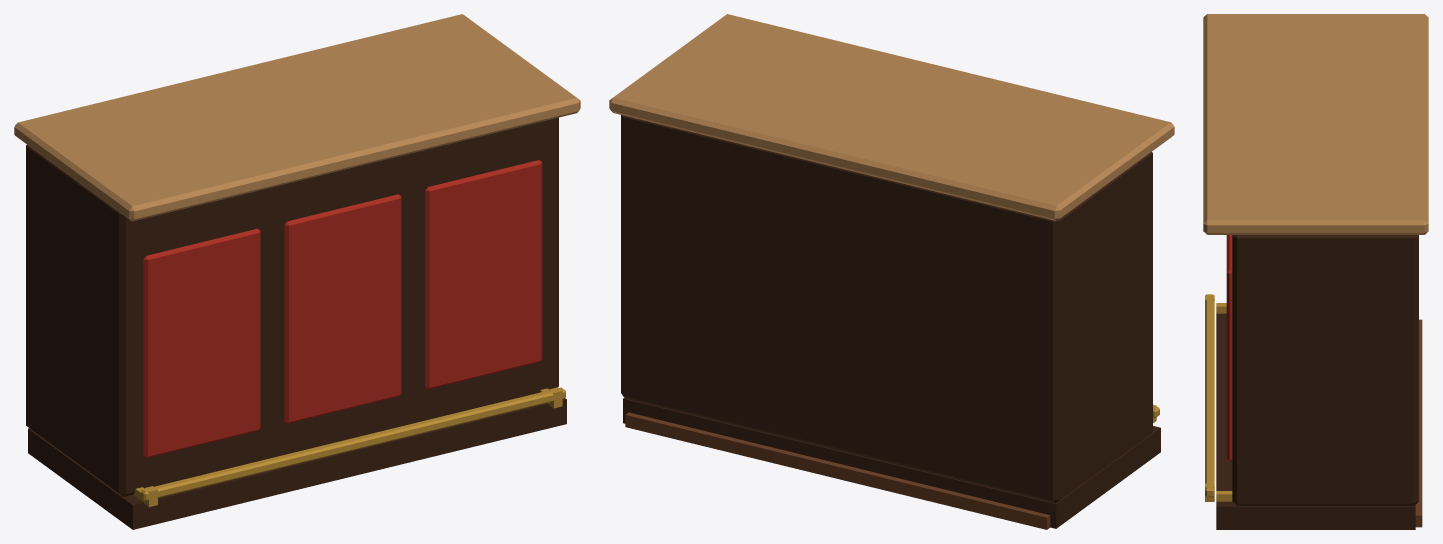
File: bar_counter.glb
3 views of the same model, side by side, from view 1: azimuth 30°, elevation 25°; view 2: azimuth 150°, elevation 25°; view 3: azimuth 270°, elevation 25° (orthographic). The views are drawn at different scales.
Parts seen in each view (by area): view 1: bar_counter; view 2: bar_counter; view 3: bar_counter.
Boxes of the visible parts, x1,y1,x2,y2 form: bar_counter: (14,14,580,529); bar_counter: (609,14,1174,529); bar_counter: (1203,14,1428,529).
Size of the model in its own units: 1.54 by 1.07 by 0.7.
